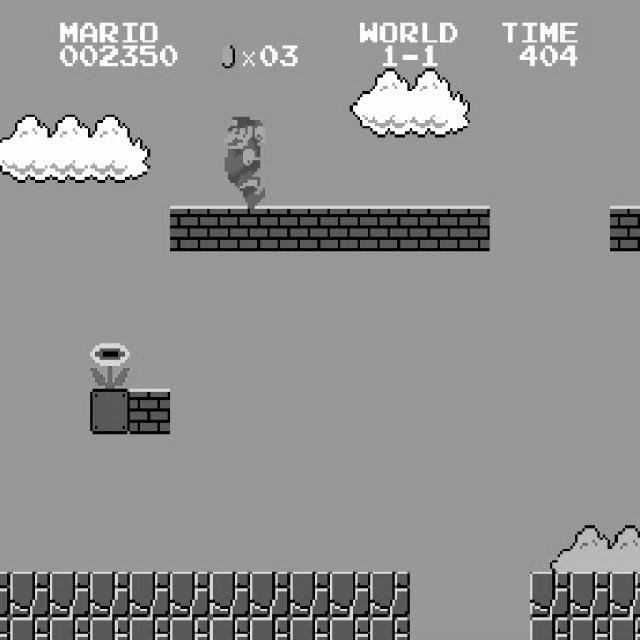0- big_mario: (222, 114, 265, 208)
1- brick_block: (130, 388, 170, 434), (170, 206, 210, 251), (210, 206, 250, 251), (250, 206, 290, 251), (290, 206, 330, 251), (330, 206, 370, 251), (370, 206, 410, 251), (410, 206, 450, 251), (450, 206, 490, 251), (610, 206, 640, 251)
17- undestructible_block: (10, 572, 50, 618), (50, 572, 90, 618), (90, 572, 130, 618), (130, 572, 170, 618), (170, 572, 210, 618), (210, 572, 250, 618), (250, 572, 290, 618), (290, 572, 330, 618), (330, 572, 370, 618), (370, 572, 410, 618), (530, 572, 570, 618), (570, 572, 610, 618), (610, 572, 640, 618), (10, 617, 50, 640), (50, 617, 90, 640), (90, 617, 130, 640), (130, 617, 170, 640), (170, 617, 210, 640), (210, 617, 250, 640), (250, 617, 290, 640), (290, 617, 330, 640), (330, 617, 370, 640), (370, 617, 410, 640), (530, 617, 570, 640), (570, 617, 610, 640), (610, 617, 640, 640), (0, 571, 10, 617), (0, 617, 10, 639)
3- empty_block: (90, 388, 130, 434)
6- flower: (88, 341, 130, 388)
